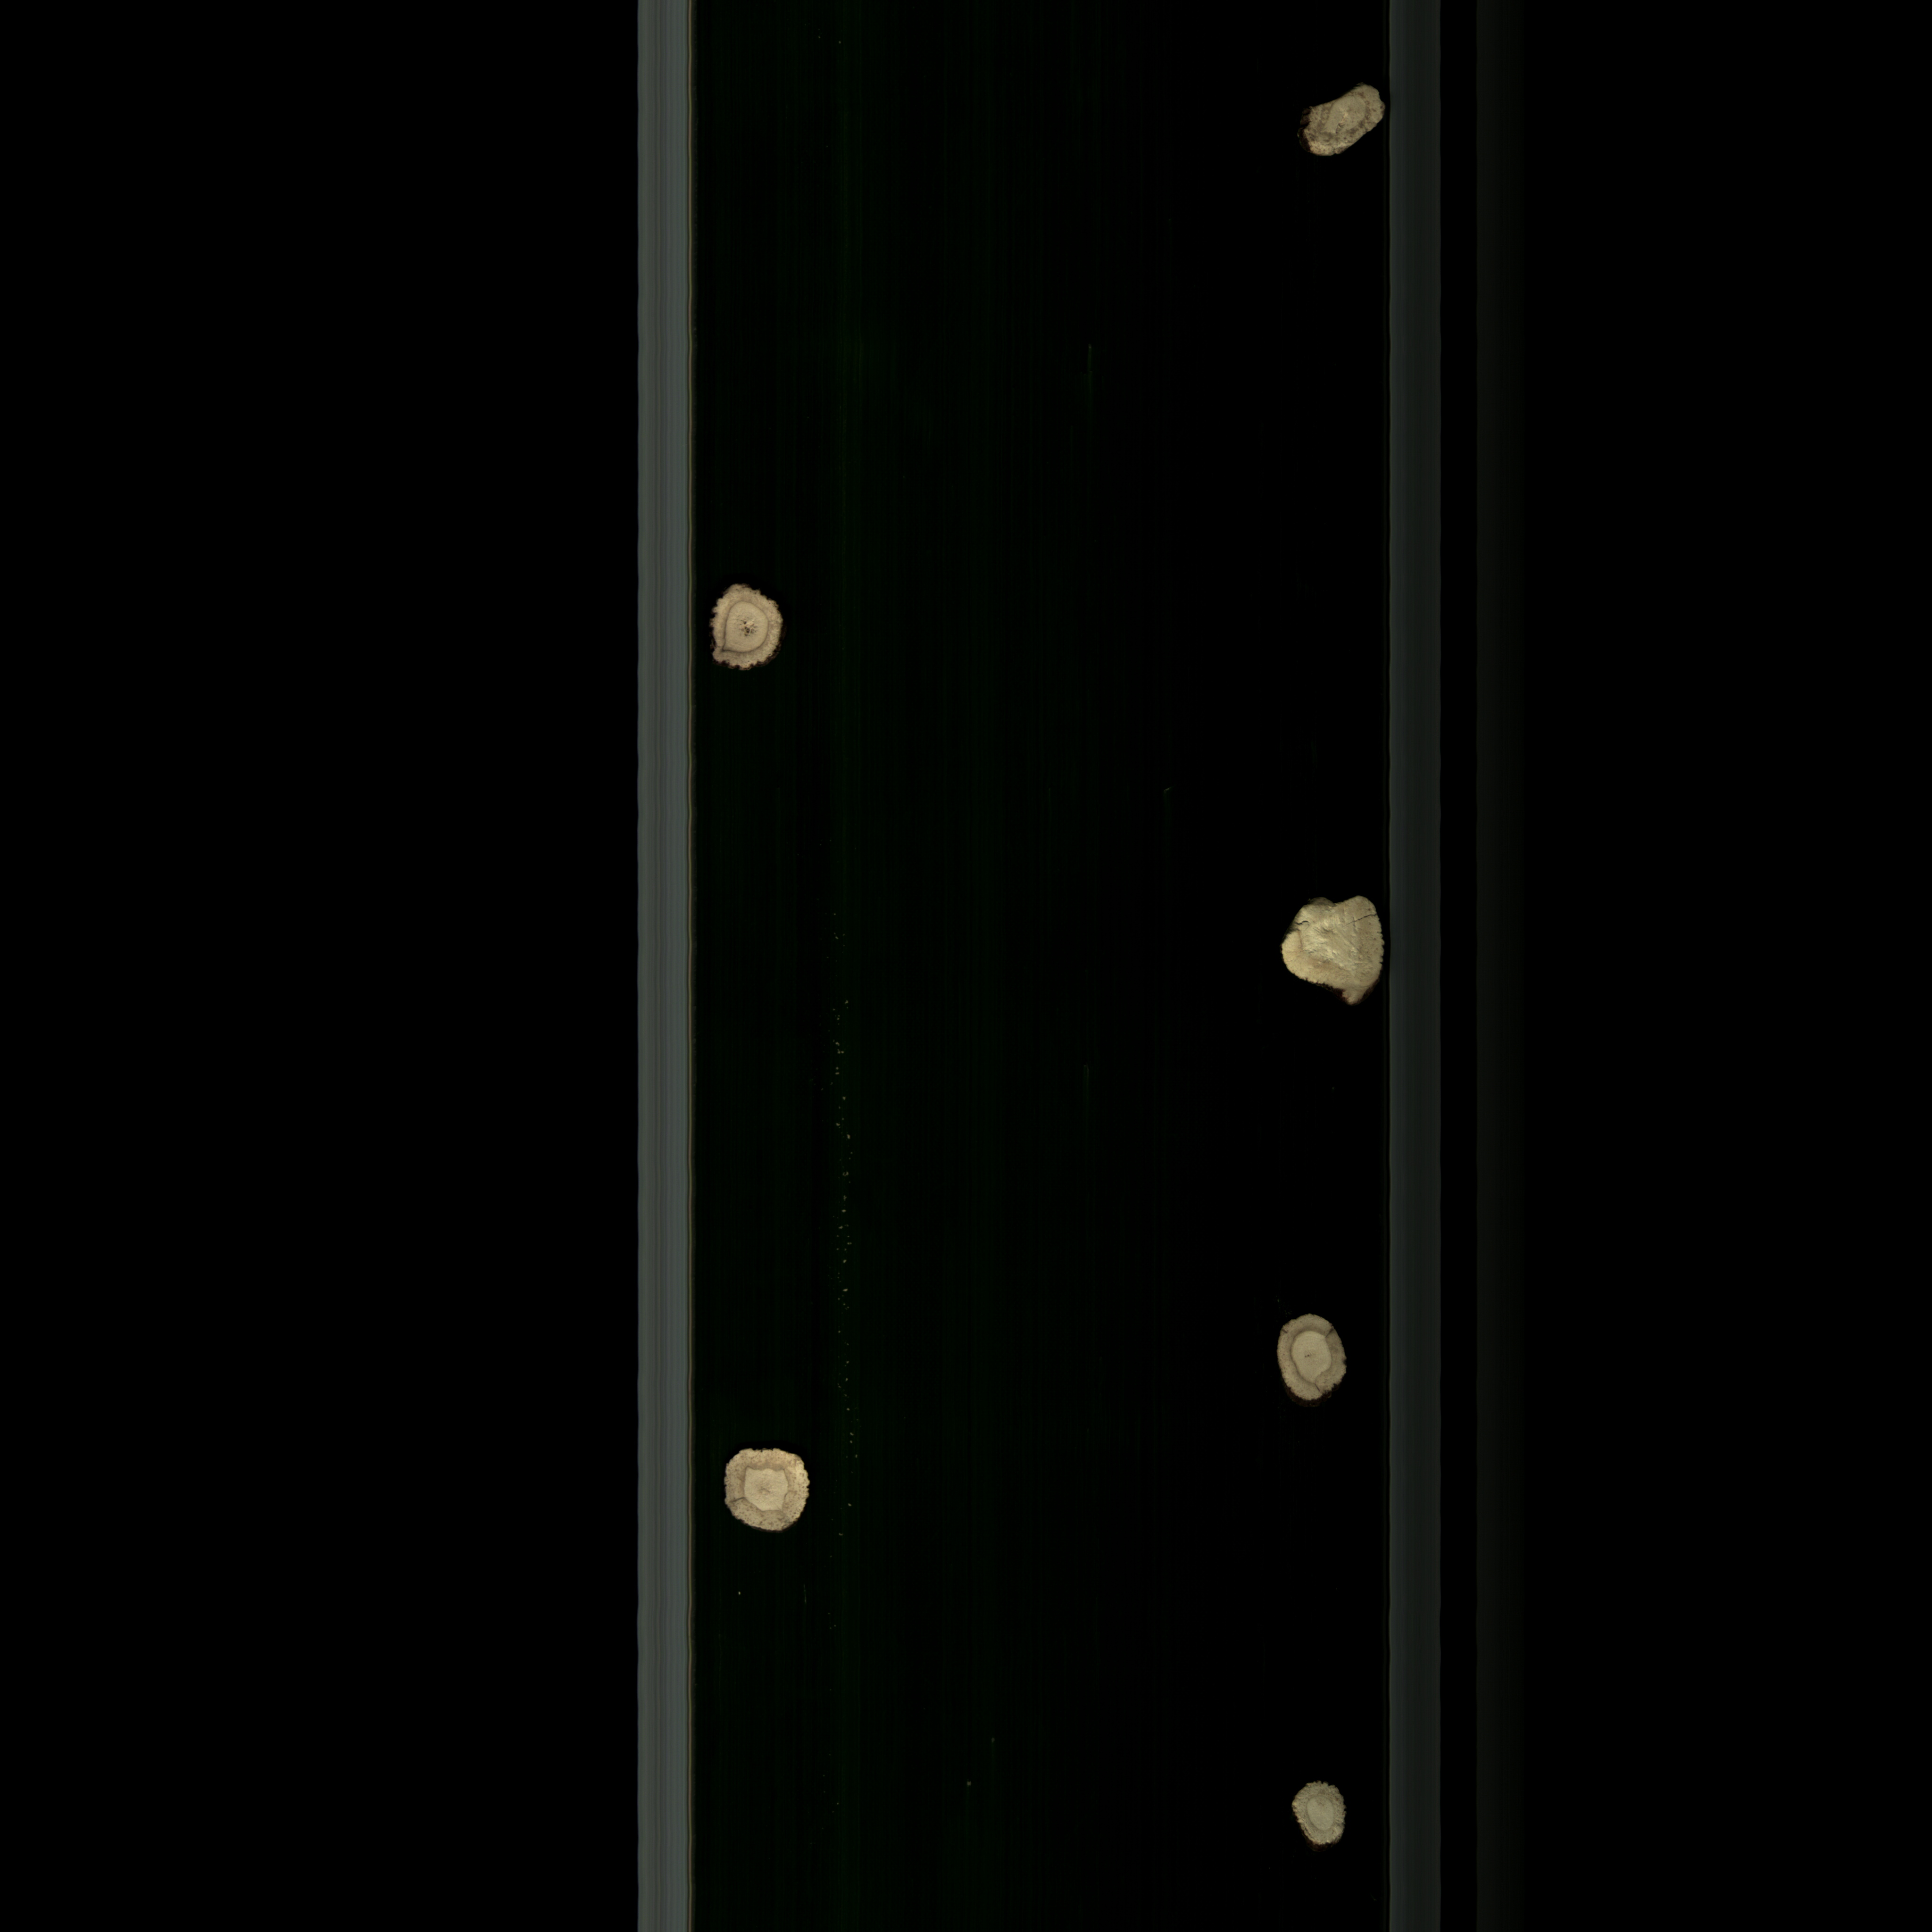debris: (1277, 890, 1389, 1008)
distortion: (706, 577, 794, 678)
moldy: (1263, 1307, 1361, 1417), (715, 1440, 821, 1536), (1288, 74, 1387, 168)
